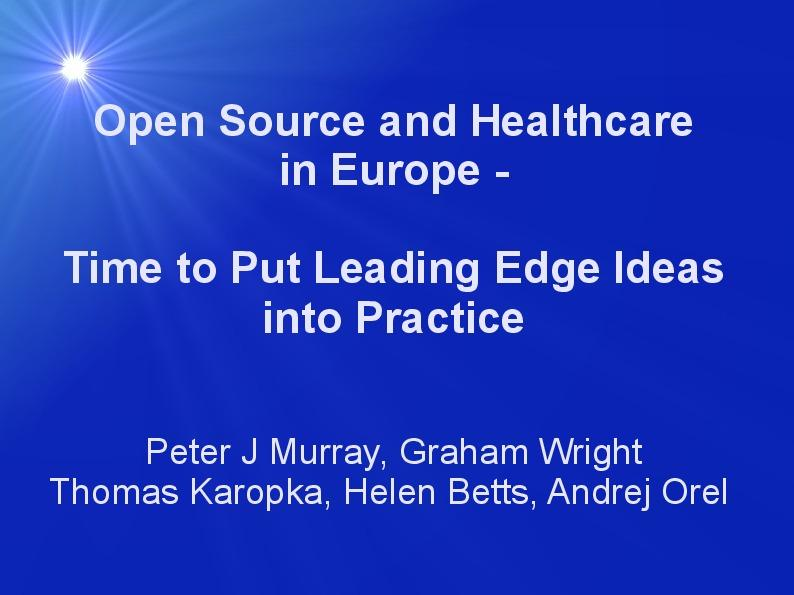paragraph: (40, 403, 753, 538)
title: (51, 84, 746, 350)
